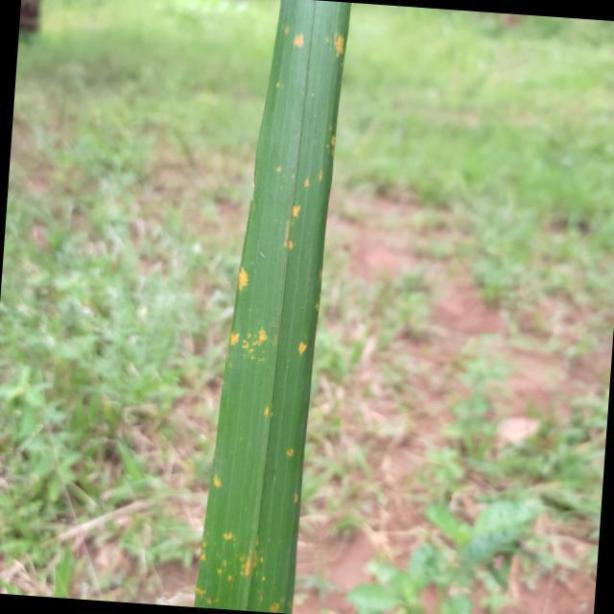Kalium: (197, 0, 355, 614)
